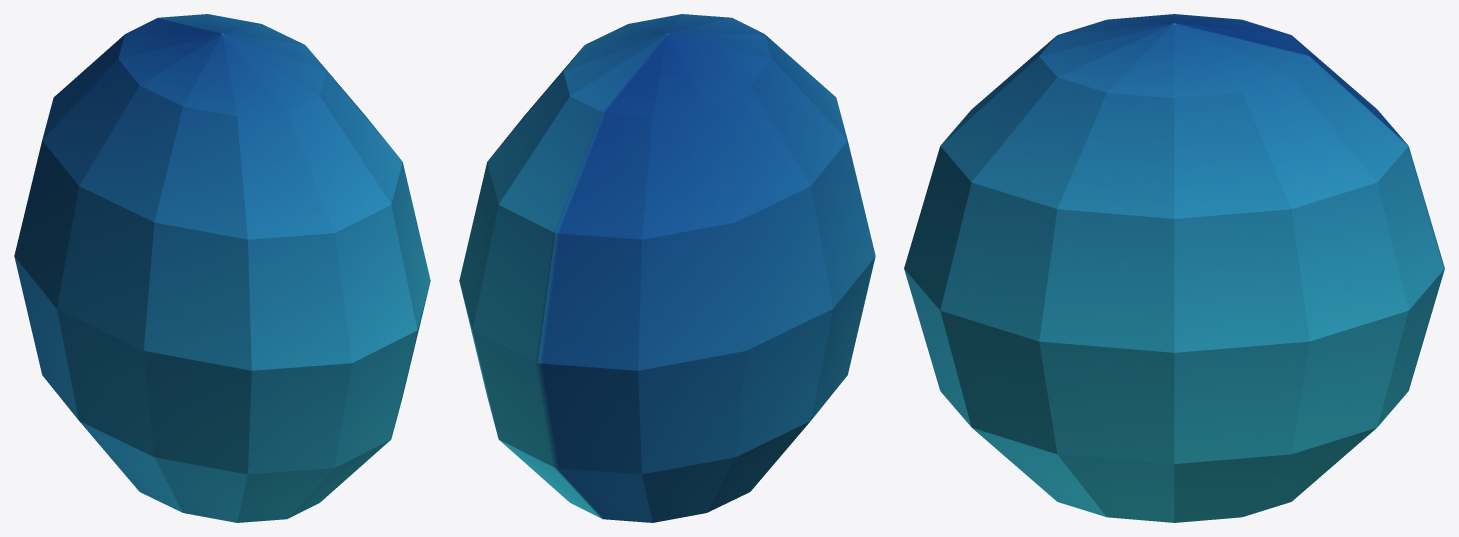
The model's file is waypoint.dae.
The picture shows the model from 3 angles, left to right: view 1: azimuth 30°, elevation 25°; view 2: azimuth 150°, elevation 25°; view 3: azimuth 270°, elevation 25°; orthographic projection. The views are drawn at different scales.
Parts seen in each view (by area): view 1: Sphere; view 2: Sphere; view 3: Sphere.
Boxes of the visible parts, left/top/right/bottom form: Sphere: left=14, top=14, right=430, bottom=522; Sphere: left=459, top=14, right=875, bottom=522; Sphere: left=904, top=14, right=1444, bottom=522.
Bounding box in the file's own units: 31.57 × 42.76 × 42.76.
